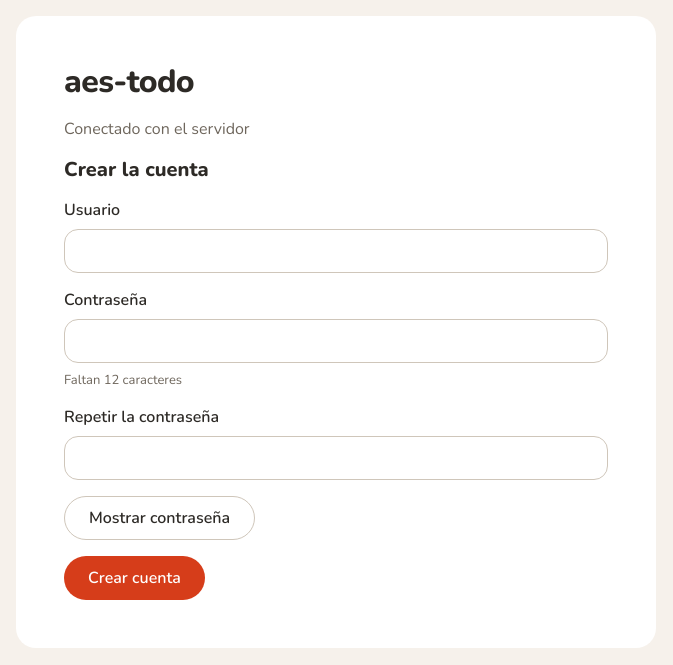
Test: App con la cuenta y la sesión › tras crear la cuenta muestra la sesión y mueve el foco al resultado
In the field labelled "Usuario": (336, 251) [64, 229, 608, 273], type "Ana"
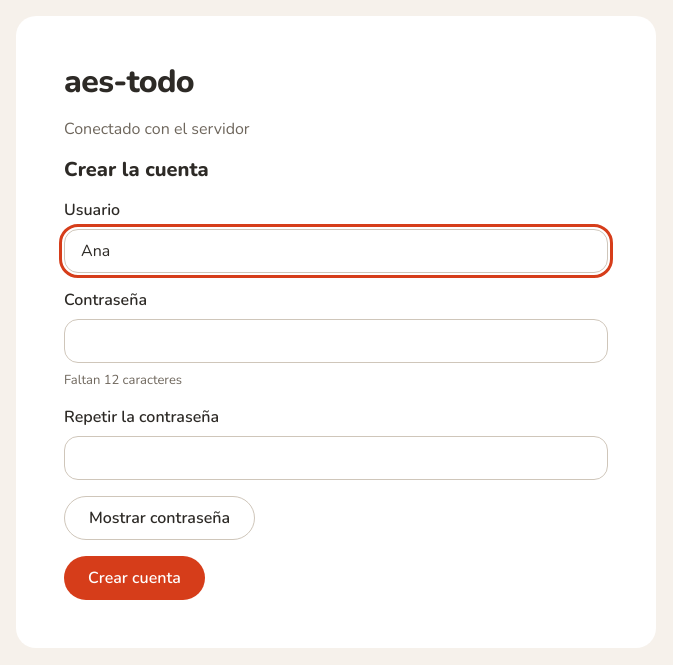
In the password field labelled "Contraseña": (336, 341) [64, 319, 608, 363], type "una frase larga y secreta"
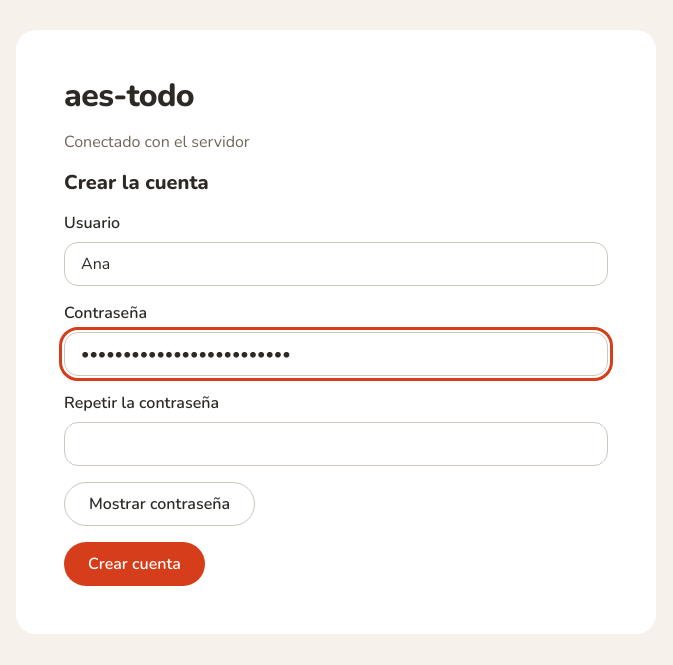
In the password field labelled "Repetir la contraseña": (336, 444) [64, 422, 608, 466], type "una frase larga y secreta"
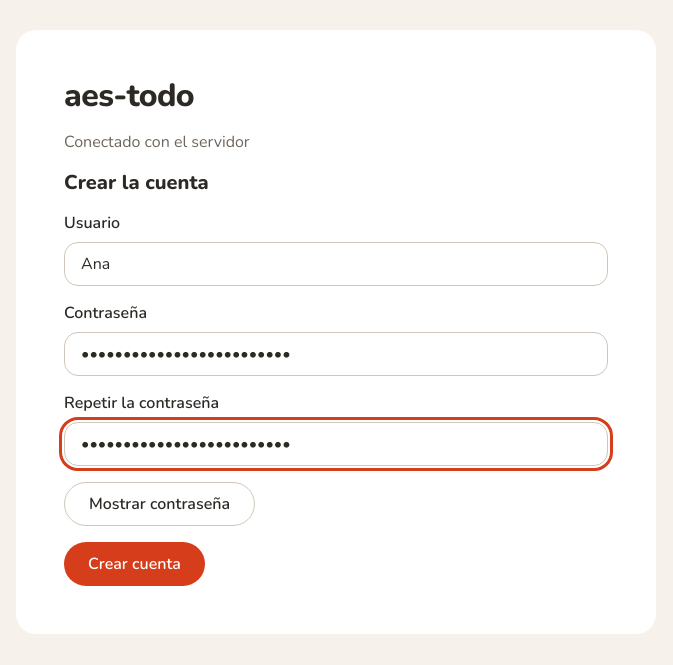
Click the button "Crear cuenta": (134, 564) [64, 542, 205, 586]
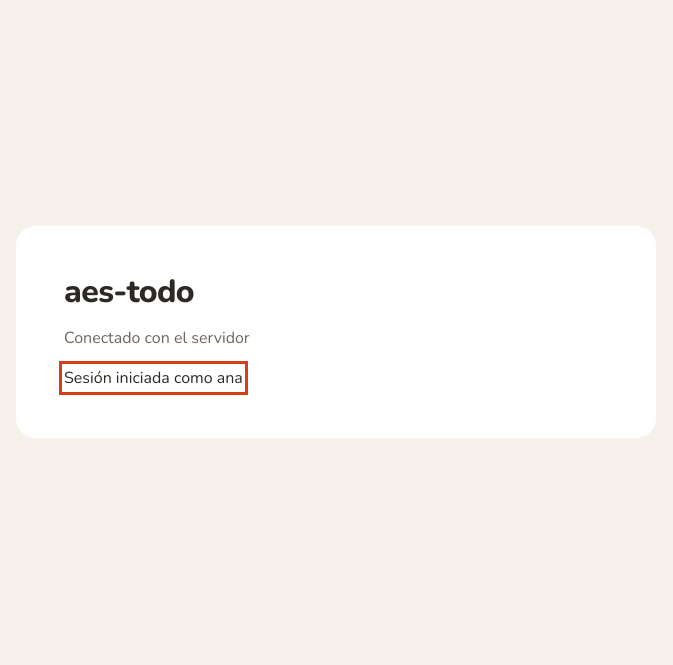
Now the button "Crear cuenta" is gone
